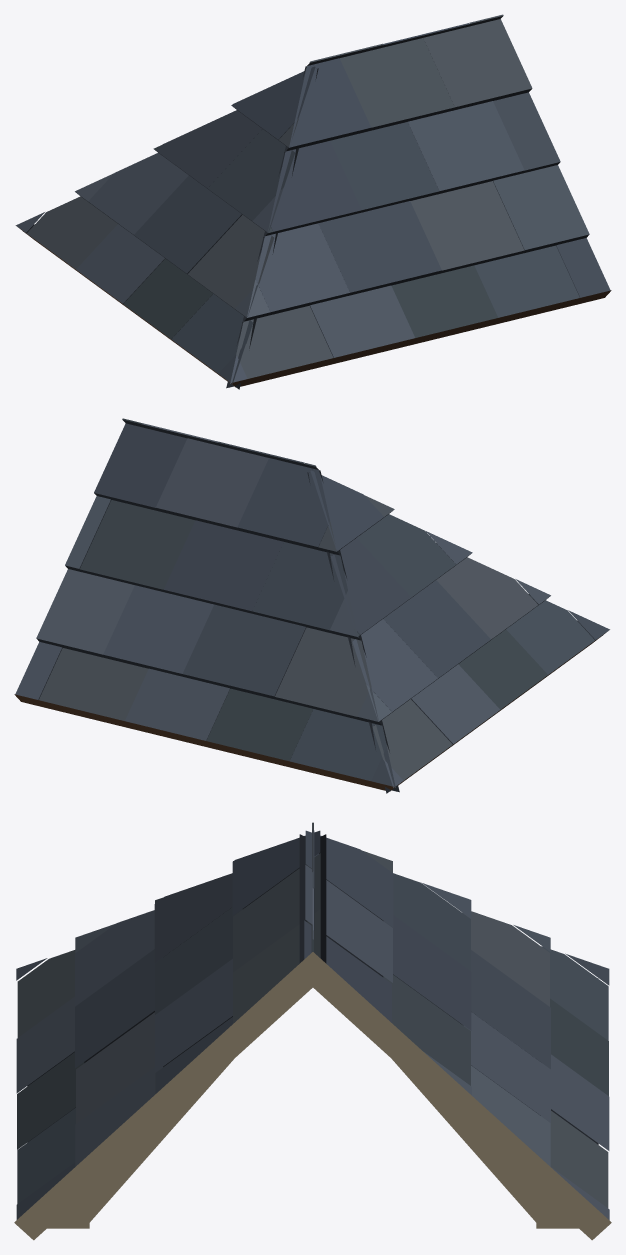
The model's file is roof-gable-end-slate.glb.
The picture shows the model from 3 angles, top to bottom: view 1: azimuth 30°, elevation 25°; view 2: azimuth 150°, elevation 25°; view 3: azimuth 270°, elevation 25°; orthographic projection. The views are drawn at different scales.
Visible parts, largest first — view 1: roof-gable-end-slate; view 2: roof-gable-end-slate; view 3: roof-gable-end-slate.
Part boxes in pixels (x1,y1,x2,y2): roof-gable-end-slate: (15, 14, 611, 389); roof-gable-end-slate: (14, 418, 609, 793); roof-gable-end-slate: (14, 822, 611, 1240).
Bounding box in the file's own units: 1.09 × 0.5707 × 1.07.
